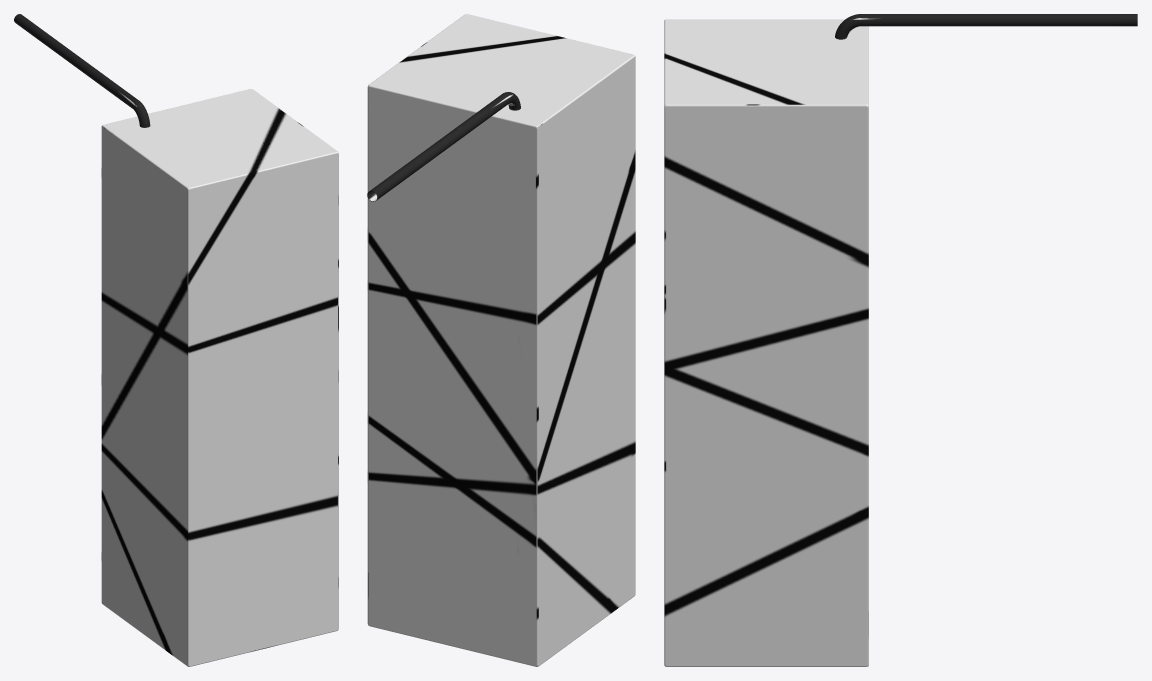
File: ballast.dae
3 renders of one model, left to right at view 1: azimuth 30°, elevation 25°; view 2: azimuth 150°, elevation 25°; view 3: azimuth 270°, elevation 25°, orthographic. The views are drawn at different scales.
Visible parts, largest first — view 1: ballast_tank_v1; view 2: ballast_tank_v1; view 3: ballast_tank_v1.
Part boxes in pixels (x1,y1,x2,y2): ballast_tank_v1: (14, 14, 338, 666); ballast_tank_v1: (367, 14, 635, 666); ballast_tank_v1: (664, 14, 1137, 666).
Bounding box in the file's own units: 0.33 × 0.7631 × 1.04.
1 material, 1 textured.
